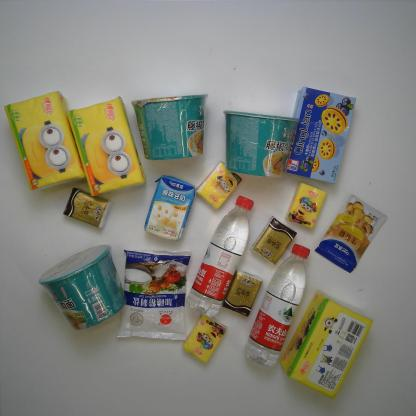Dessert: (284, 85, 357, 184)
Drink: (242, 241, 312, 368), (185, 194, 255, 319)
Instant Noodles: (38, 243, 127, 332), (222, 109, 300, 181), (130, 93, 208, 161)
Milk: (144, 174, 196, 242)
Seasoner: (116, 248, 192, 342), (314, 193, 388, 274)
Tissue: (279, 288, 375, 401), (3, 91, 86, 192), (66, 95, 147, 198), (250, 215, 298, 266), (181, 313, 228, 364), (195, 161, 242, 210), (63, 186, 112, 230), (221, 269, 263, 318), (285, 181, 327, 229)
